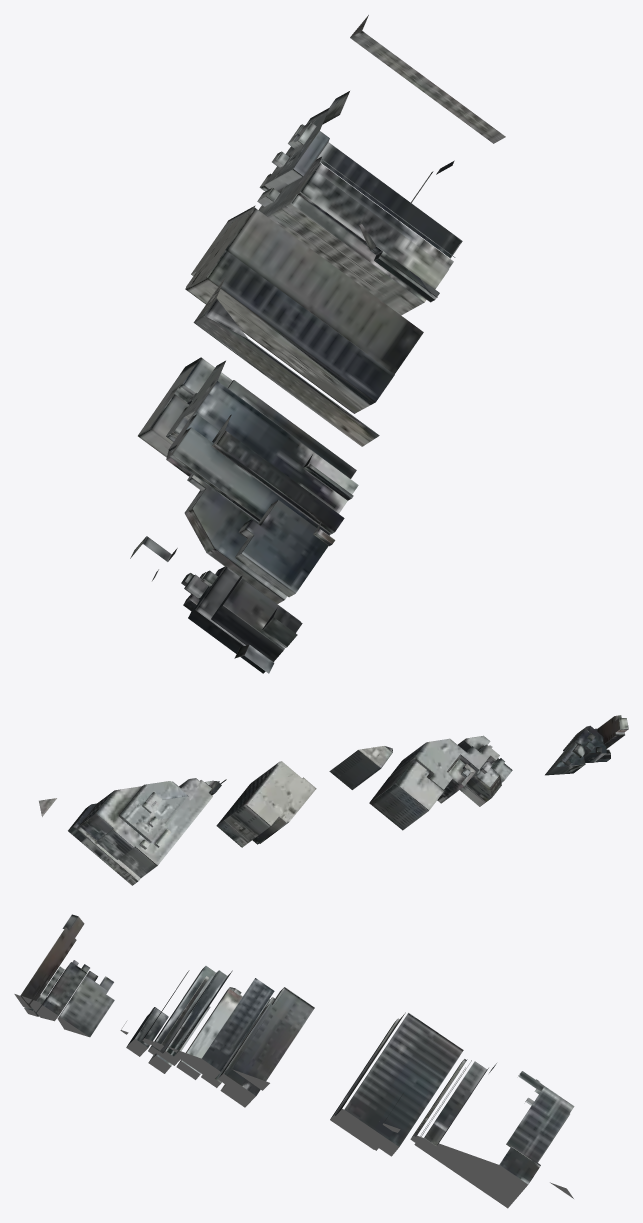
The model's file is 19773_bldg_Building.glb.
3 renders of one model, top to bottom at view 1: azimuth 30°, elevation 25°; view 2: azimuth 150°, elevation 25°; view 3: azimuth 270°, elevation 25°, orthographic. The views are drawn at different scales.
Bounding box in the file's own units: 186 × 52.02 × 212.
Materials: 2 (1 with a texture image).
